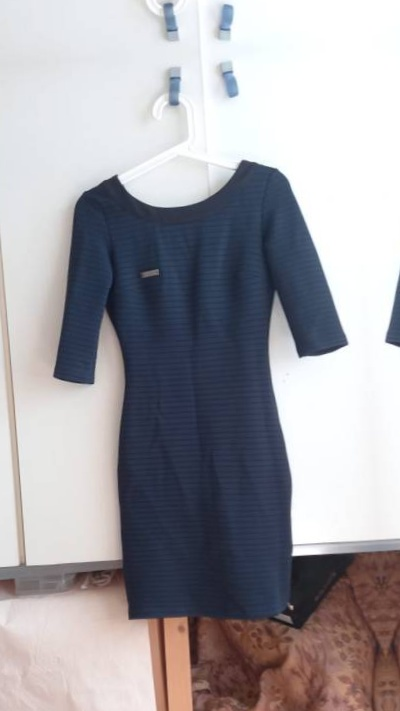Dress: (22, 128, 368, 681), (373, 107, 400, 660)
